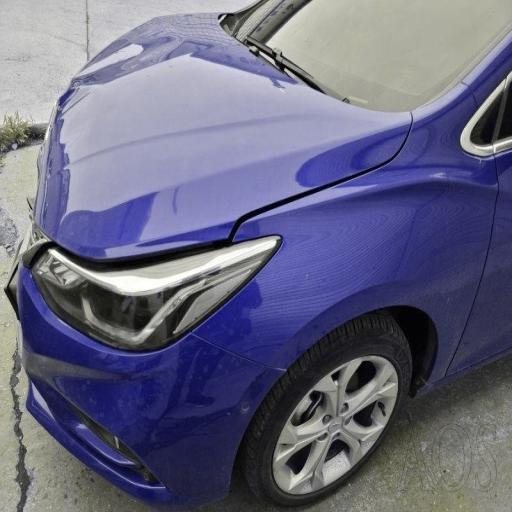dent: (63, 40, 316, 248)
scratch: (14, 275, 294, 486)
